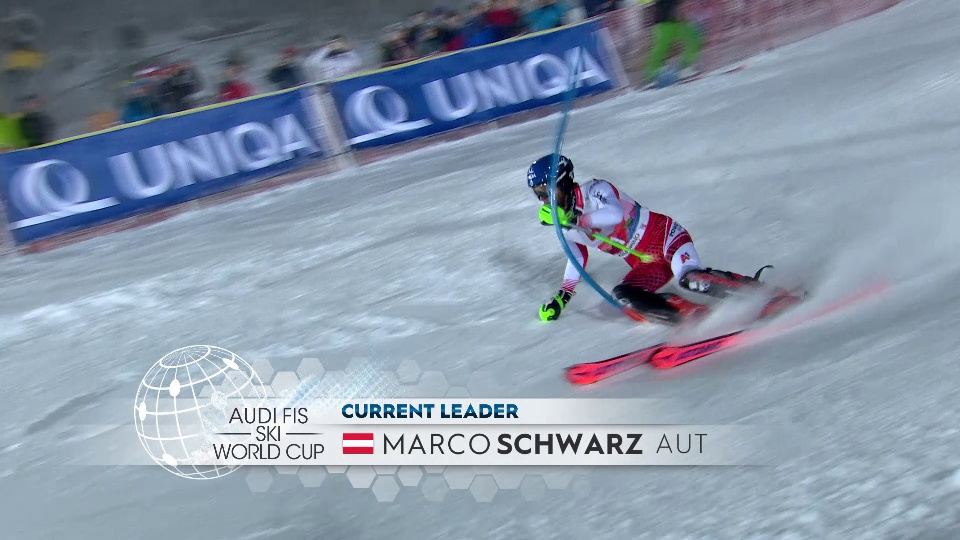a1: (680, 248, 694, 264)
uniqa: (4, 112, 314, 229), (356, 45, 615, 135)
